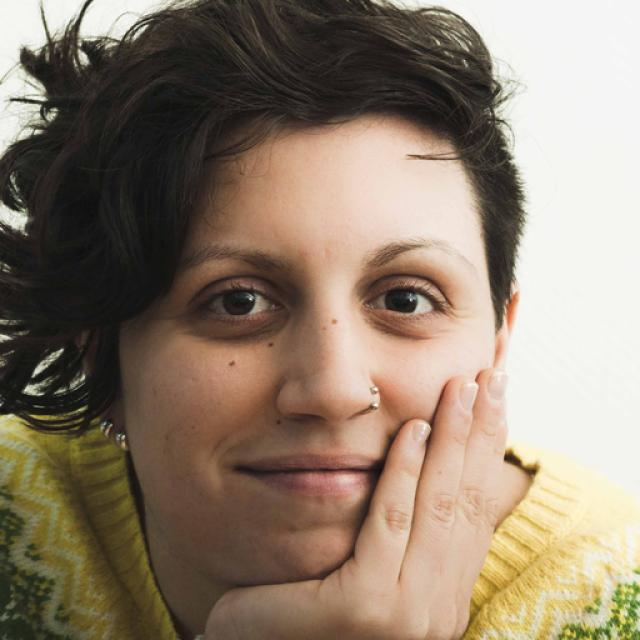Dark Circle: (193, 312, 292, 342), (361, 308, 448, 336)
